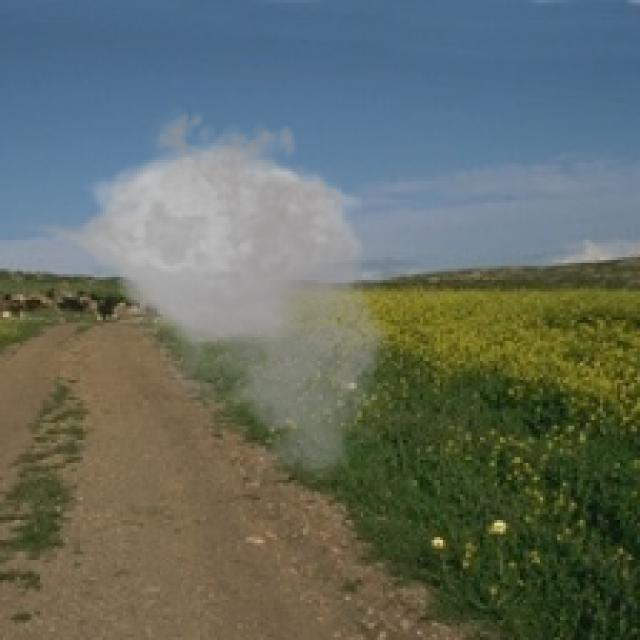smoke: (28, 100, 403, 480)
